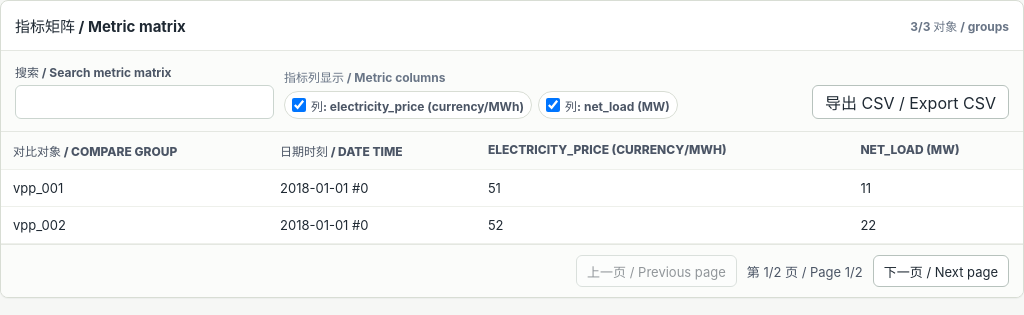
CompareMetricMatrix › paginates compare groups instead of silently truncating them
Expected: the row "vpp_001 2018-01-01 #0 51 11" is shown, x1=1 y1=170 x2=1023 y2=206
Expected: the row "vpp_002 2018-01-01 #0 52 22" is shown, x1=1 y1=206 x2=1023 y2=244
What coordinates should you click on to do the following:
click the button "下一页 / Next page"
I would click on:
 (941, 271)
Its box is x1=873 y1=255 x2=1009 y2=287.
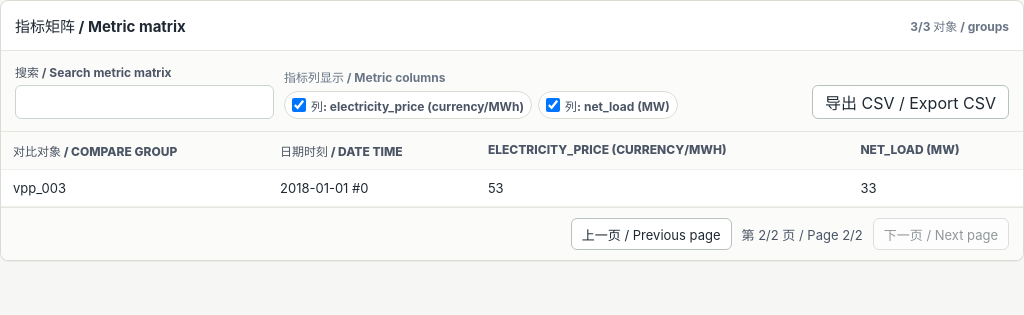
Result: the cell "vpp_001" is gone
Result: the row "vpp_003 2018-01-01 #0 53 33" is shown at x1=1 y1=170 x2=1023 y2=206
Result: the text "第 2/2 页 / Page 2/2" is shown at x1=742 y1=224 x2=863 y2=244
